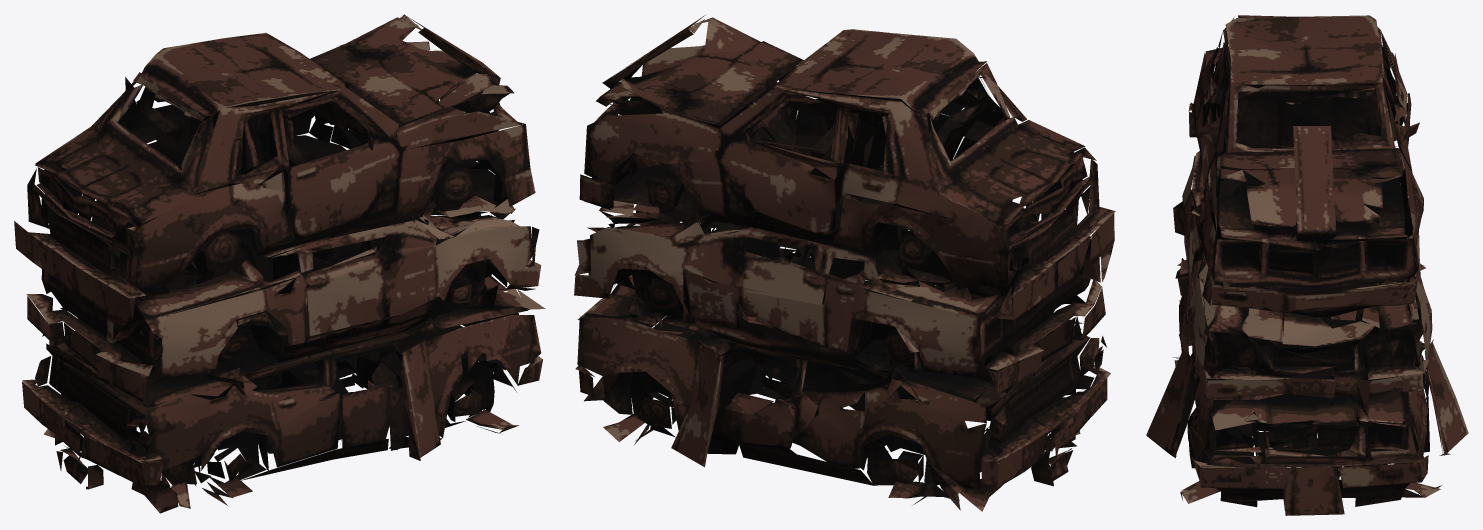
The model's file is yd_car_stack.glb.
3 views of the same model, side by side, from view 1: azimuth 30°, elevation 25°; view 2: azimuth 150°, elevation 25°; view 3: azimuth 270°, elevation 25° (orthographic). The views are drawn at different scales.
Visible parts, largest first — view 1: yd_car_stack; view 2: yd_car_stack; view 3: yd_car_stack.
Boxes of the visible parts, box(x1,y1,x2,y2) form: yd_car_stack: box(14, 14, 545, 513); yd_car_stack: box(574, 15, 1115, 511); yd_car_stack: box(1146, 15, 1468, 515).
Size of the model in its own units: 3.23 by 2.63 by 2.09.
1 material, 1 textured.
